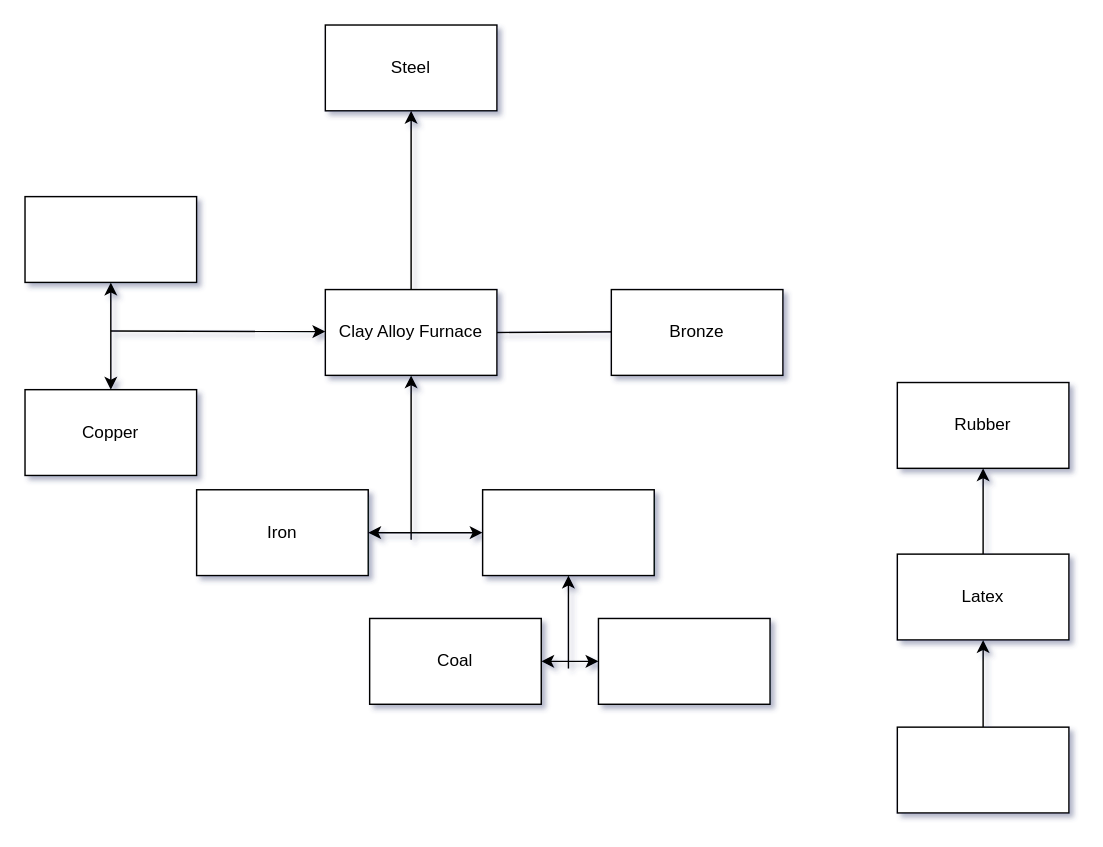
This 1103x847 diagram has some shape labels left out. Here are the shapes that lost their labels. From the top down, the centre of each, then its label:
At point 110,238: "Tin".
At point 567,532: "Carbon".
At point 683,660: "Hammer".
At point 982,769: "Tree Tap".
